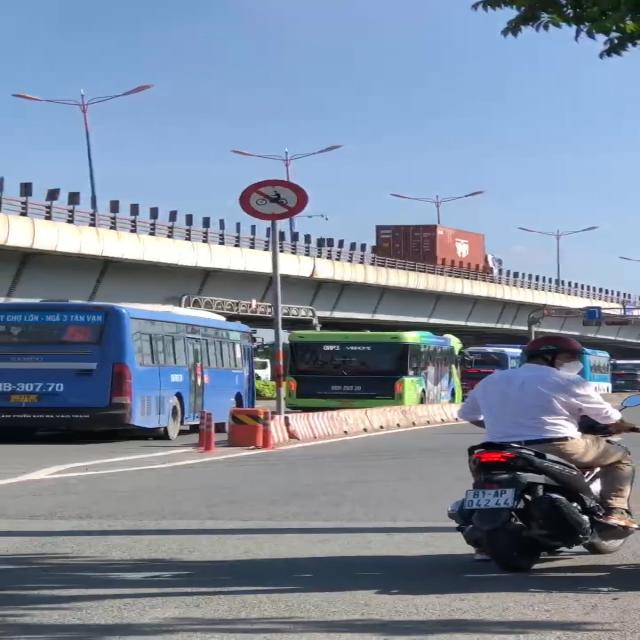Bien bao cam xe may: (238, 177, 310, 226)
